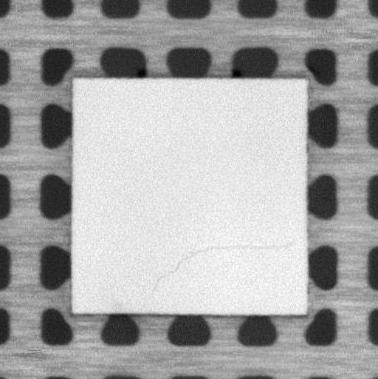DIE_CRACK: (153, 244, 290, 295)
